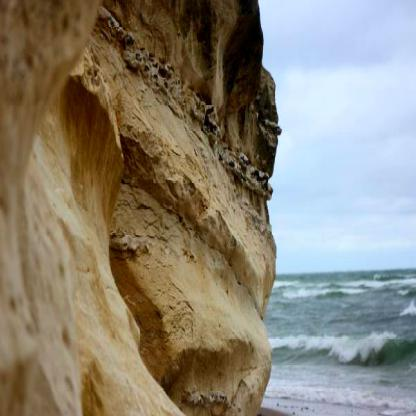Sedimentary_Limestone: (0, 8, 252, 415)
